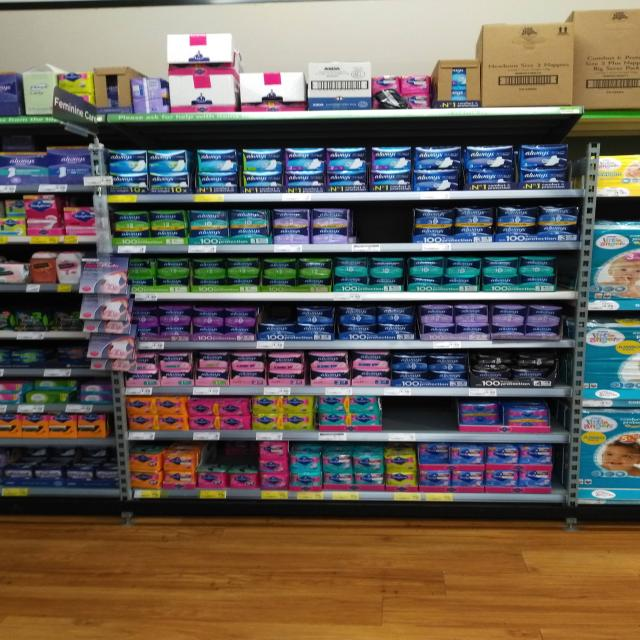empty: (347, 201, 416, 244), (381, 395, 456, 434)
